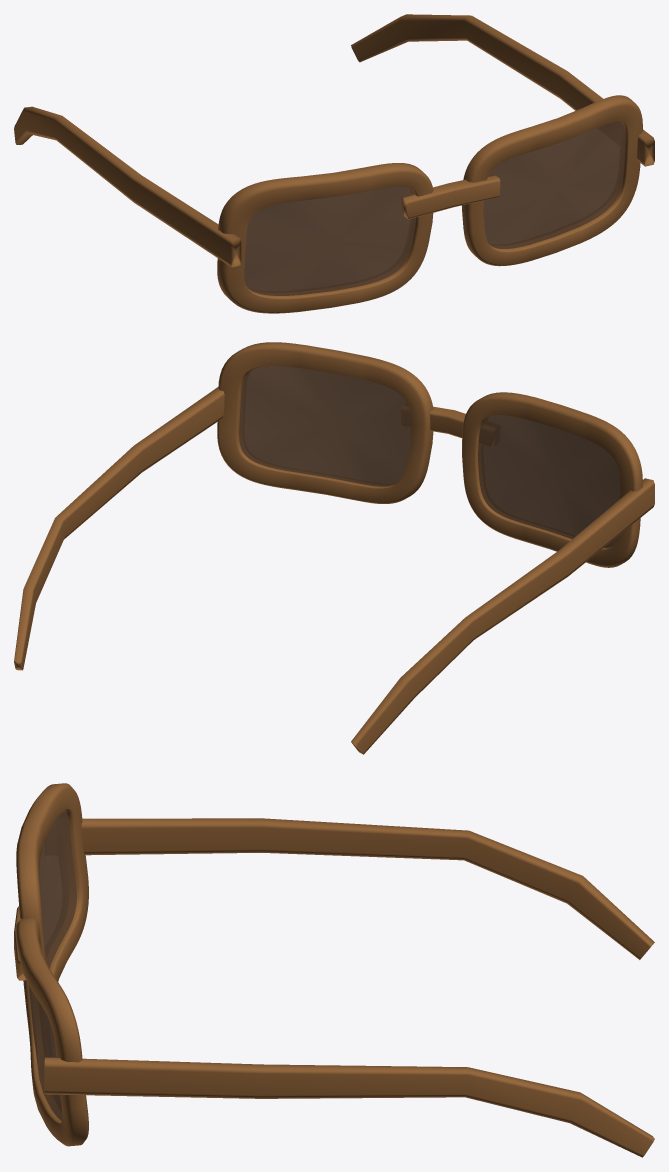
Rendered from oculos-04-bold-tartaruga.glb.
3 views of the same model, one above another, from view 1: azimuth 30°, elevation 25°; view 2: azimuth 150°, elevation 25°; view 3: azimuth 270°, elevation 25° (orthographic). The views are drawn at different scales.
Visible parts, largest first — view 1: M04_Lens_L, M04_Lens_R, M04_Rim_L, M04_Rim_R, TempleAcetate_R, TempleAcetate_L, M04_BoldBridge; view 2: M04_Lens_R, M04_Lens_L, M04_Rim_R, TempleAcetate_L, M04_Rim_L, TempleAcetate_R, M04_BoldBridge; view 3: TempleAcetate_R, TempleAcetate_L, M04_Rim_L, M04_Rim_R, M04_Lens_L, M04_Lens_R.
Boxes of the visible parts, x1,y1,x2,y2 form: M04_Lens_L: (244,186,415,295); M04_Lens_R: (483,121,625,248); M04_Rim_L: (217,163,433,313); M04_Rim_R: (462,95,642,266); TempleAcetate_R: (351,14,654,166); TempleAcetate_L: (14,106,241,267); M04_BoldBridge: (401,174,500,219); M04_Lens_R: (239,366,411,486); M04_Lens_L: (478,415,620,547); M04_Rim_R: (217,342,433,503); TempleAcetate_L: (351,478,654,754); M04_Rim_L: (462,392,642,567); TempleAcetate_R: (14,387,224,670); M04_BoldBridge: (401,406,494,447); TempleAcetate_R: (44,1057,654,1157); TempleAcetate_L: (81,818,654,959); M04_Rim_L: (16,783,88,981); M04_Rim_R: (16,918,88,1146); M04_Lens_L: (39,811,76,968); M04_Lens_R: (28,985,62,1120).
Bounding box in the file's own units: 0.1345 × 0.0429 × 0.1446.
